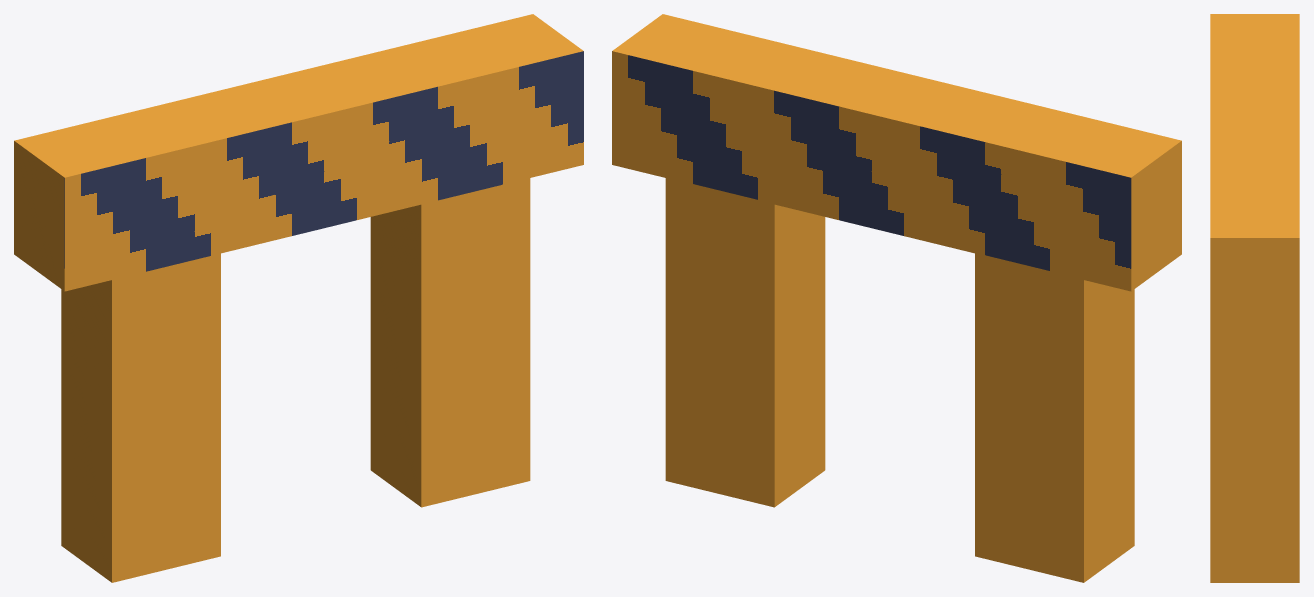
File: valla-warning.fbx
3 views of the same model, side by side, from view 1: azimuth 30°, elevation 25°; view 2: azimuth 150°, elevation 25°; view 3: azimuth 270°, elevation 25° (orthographic). The views are drawn at different scales.
Visible parts, largest first — view 1: Wall1.039, Wall1.040, Wall1.041; view 2: Wall1.039, Wall1.040, Wall1.041; view 3: Wall1.039, Wall1.040.
Boxes of the visible parts, <box> form: Wall1.039: <box>14,14,583,291</box>; Wall1.040: <box>370,178,530,507</box>; Wall1.041: <box>61,253,220,582</box>; Wall1.039: <box>612,14,1181,291</box>; Wall1.040: <box>665,177,825,507</box>; Wall1.041: <box>975,253,1134,582</box>; Wall1.039: <box>1210,14,1299,338</box>; Wall1.040: <box>1210,338,1299,582</box>.
Size of the model in its own units: 115 by 87.94 by 19.38.
